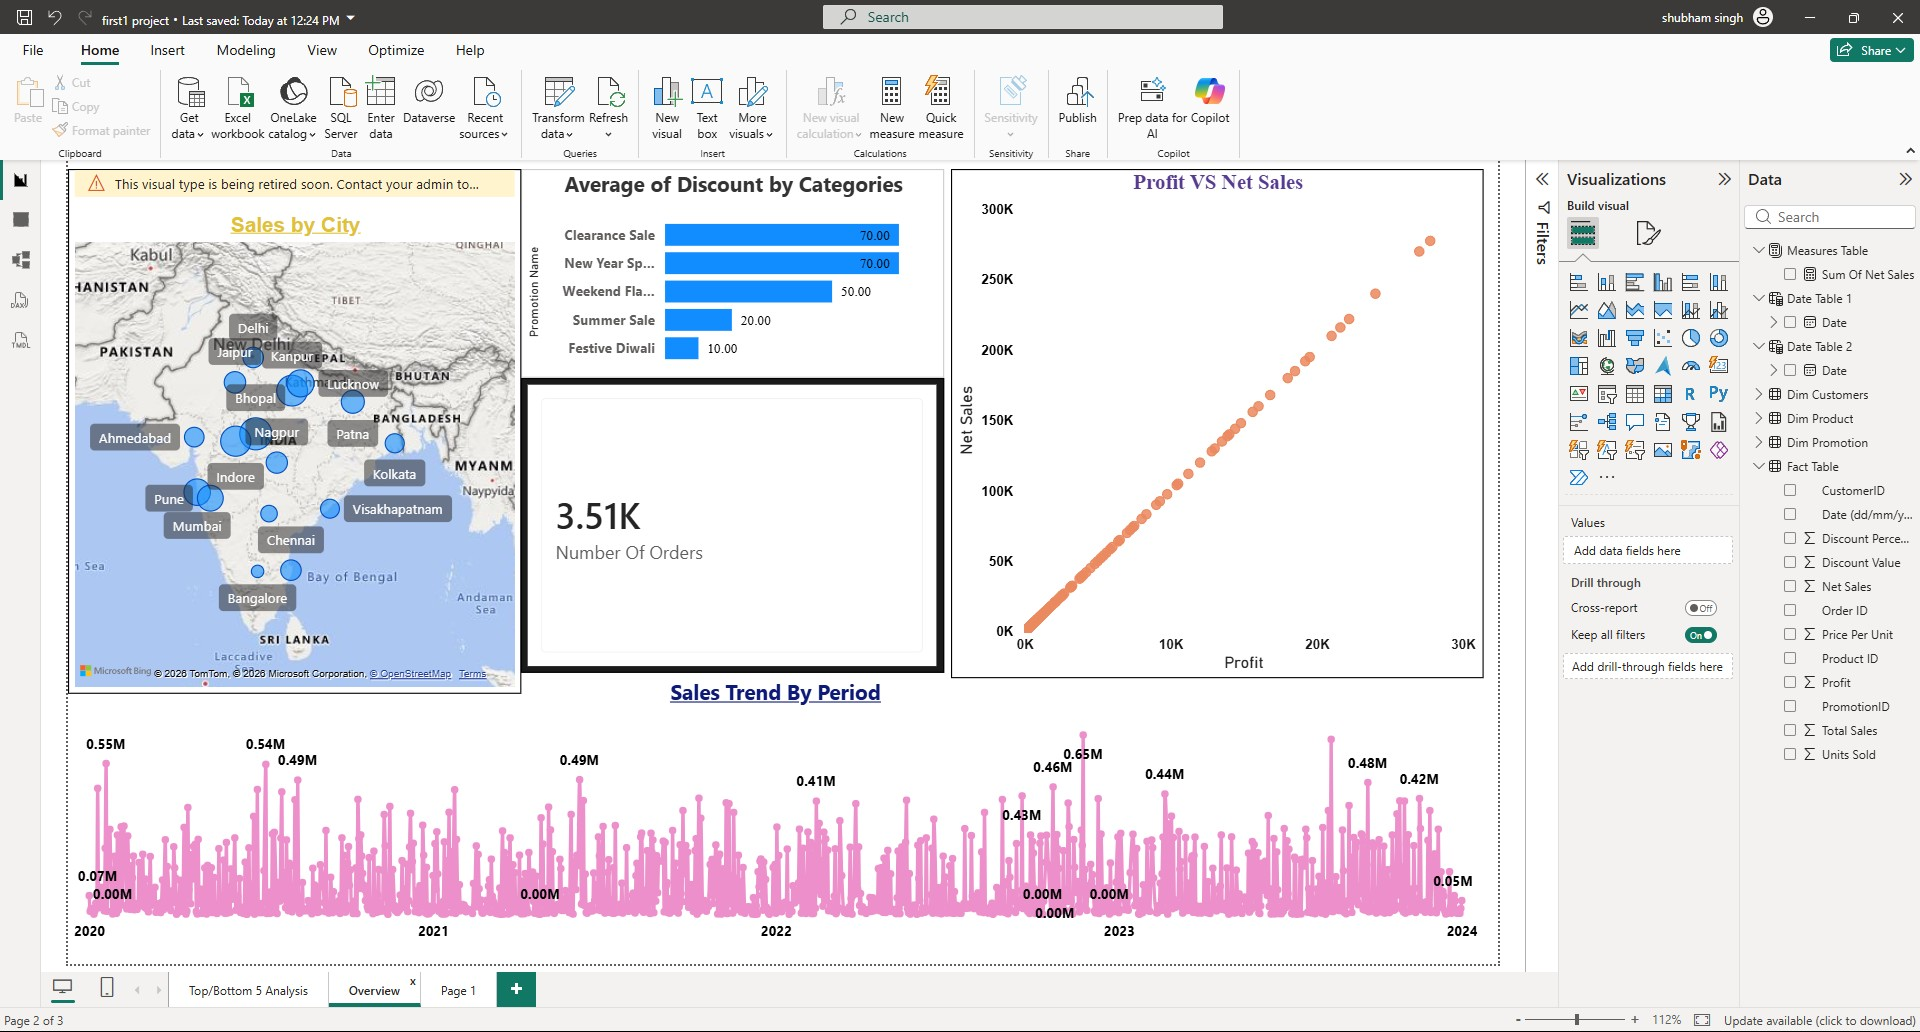

Layout of this report page (visuals, bound fields, positions):
{"tool":"powerbi","page":{"name":"Overview","canvas":[1280,720],"ordinal":1},"visuals":[{"type":"lineChart","title":"Sales Trend By Period","fields":{"Y":["Sum(Fact Table.Net Sales  )"],"Category":["Fact Table.Date (dd/mm/yyyy).Variation.Date Hierarchy.Year"]},"box":[0,464.2,1267.2,244.9],"z":0},{"type":"scatterChart","title":"Profit VS Net Sales  ","fields":{"X":["Fact Table.Profit"],"Y":["Fact Table.Net Sales  "]},"box":[790.8,7.8,476.6,456.2],"z":1000},{"type":"barChart","title":"Average of Discount by Categories","fields":{"Y":["Avg(Fact Table.Discount Percentage)"],"Category":["Dim Promotion.Promotion Name"]},"box":[405.7,8.1,378.8,187.2],"z":2000},{"type":"map","title":"Sales by City","fields":{"Category":["Dim Customers.City"],"Size":["Sum(Fact Table.Net Sales  )"]},"box":[0,8.1,405.7,470.1],"z":2001},{"type":"cardVisual","fields":{"Data":["Count(Fact Table.Order ID)"]},"box":[406,195.2,378.8,264],"z":2002}]}

Visuals, with their boxes on the page's 1280x720 design canvas (x1, y1, x2, y2). These are canvas units, not pixel positions in the 1920x1032 screenshot, which may show the page scaled, cropped or inside an application window:
"Sales Trend By Period" lineChart: select_region(0, 464, 1267, 709)
"Profit VS Net Sales  " scatterChart: select_region(791, 8, 1267, 464)
"Average of Discount by Categories" barChart: select_region(406, 8, 784, 195)
"Sales by City" map: select_region(0, 8, 406, 478)
cardVisual - Count(Fact Table.Order ID): select_region(406, 195, 785, 459)
